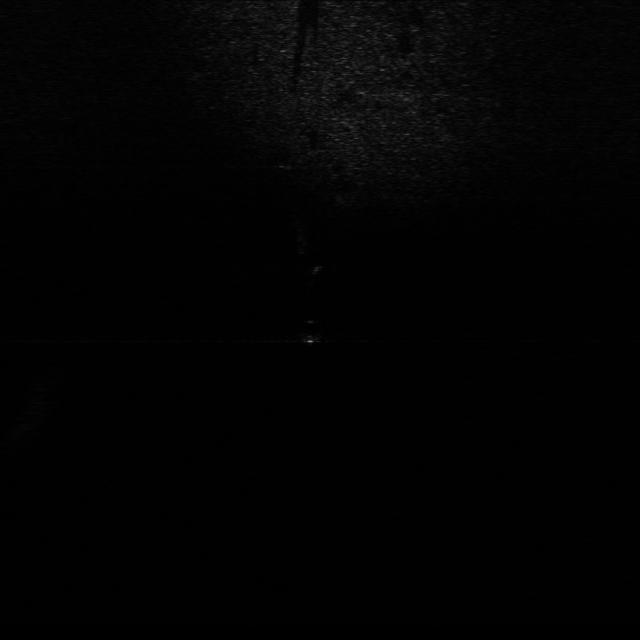ball: (294, 318, 327, 346)
human body: (289, 233, 332, 276)
